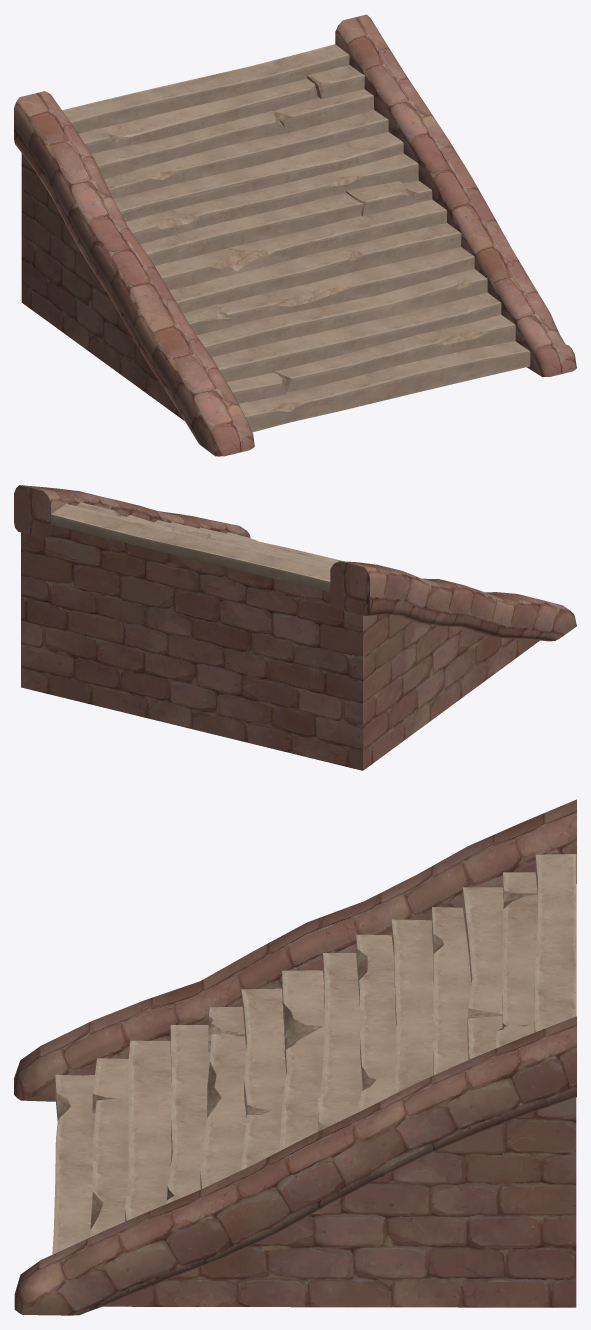
The model's file is Homeworld_Exterior_Xm_Build_Arvillage_07_Lod0.fbx.
The picture shows the model from 3 angles, top to bottom: view 1: azimuth 30°, elevation 25°; view 2: azimuth 150°, elevation 25°; view 3: azimuth 270°, elevation 25°; orthographic projection. The views are drawn at different scales.
Visible parts, largest first — view 1: Area_Xm_Build_ARC_Stair_02_Lod0; view 2: Area_Xm_Build_ARC_Stair_02_Lod0; view 3: Area_Xm_Build_ARC_Stair_02_Lod0.
Boxes of the visible parts, bbox=[...] form: Area_Xm_Build_ARC_Stair_02_Lod0: bbox=[14, 14, 576, 456]; Area_Xm_Build_ARC_Stair_02_Lod0: bbox=[14, 485, 576, 770]; Area_Xm_Build_ARC_Stair_02_Lod0: bbox=[14, 799, 576, 1315].
Bounding box in the file's own units: 5.7 × 3.12 × 5.62.
